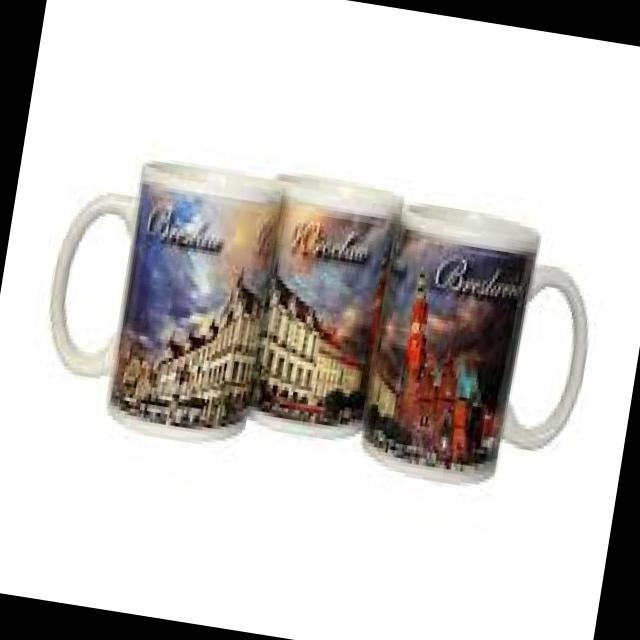Coffee Mug: (35, 144, 291, 446), (360, 195, 606, 500), (241, 170, 404, 446)
